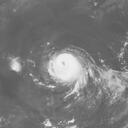cyclone: (48, 50, 88, 85)
